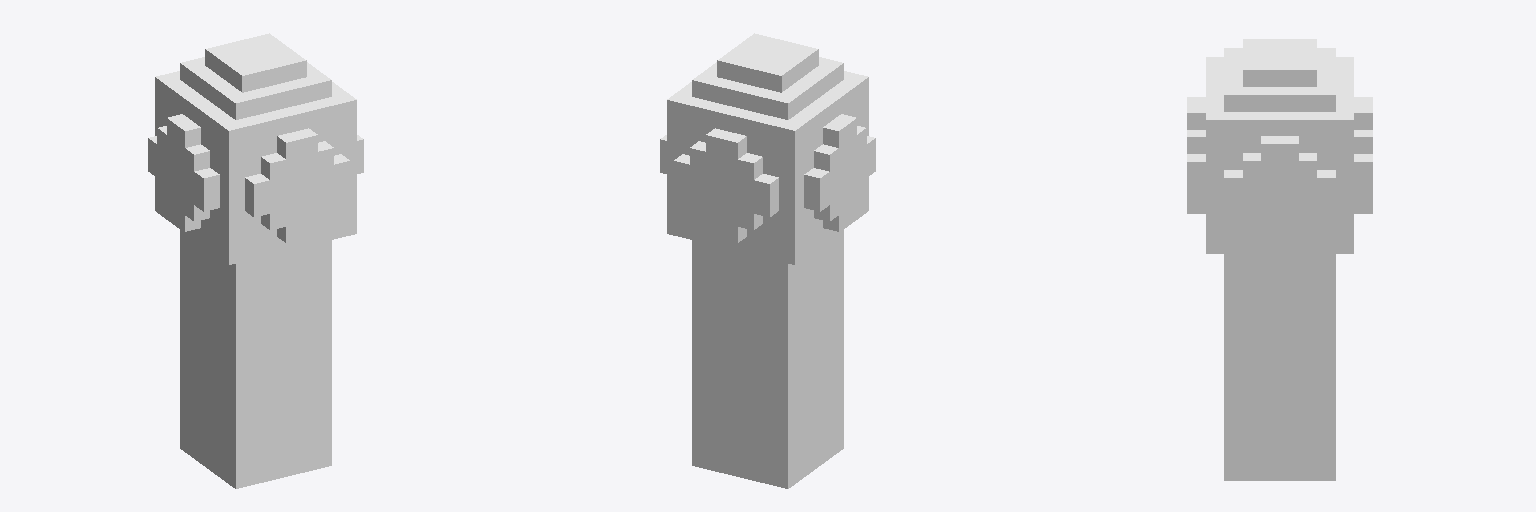
The model's file is clocktower.obj.
The picture shows the model from 3 angles: view 1: azimuth 30°, elevation 25°; view 2: azimuth 150°, elevation 25°; view 3: azimuth 270°, elevation 25°; orthographic projection.
Parts seen in each view (by area): view 1: object 1; view 2: object 1; view 3: object 1.
Part boxes in pixels (x1,y1,x2,y2): object 1: (148, 33, 363, 488); object 1: (660, 33, 875, 488); object 1: (1187, 39, 1372, 480).
Bounding box in the file's own units: 2 × 4.8 × 2.